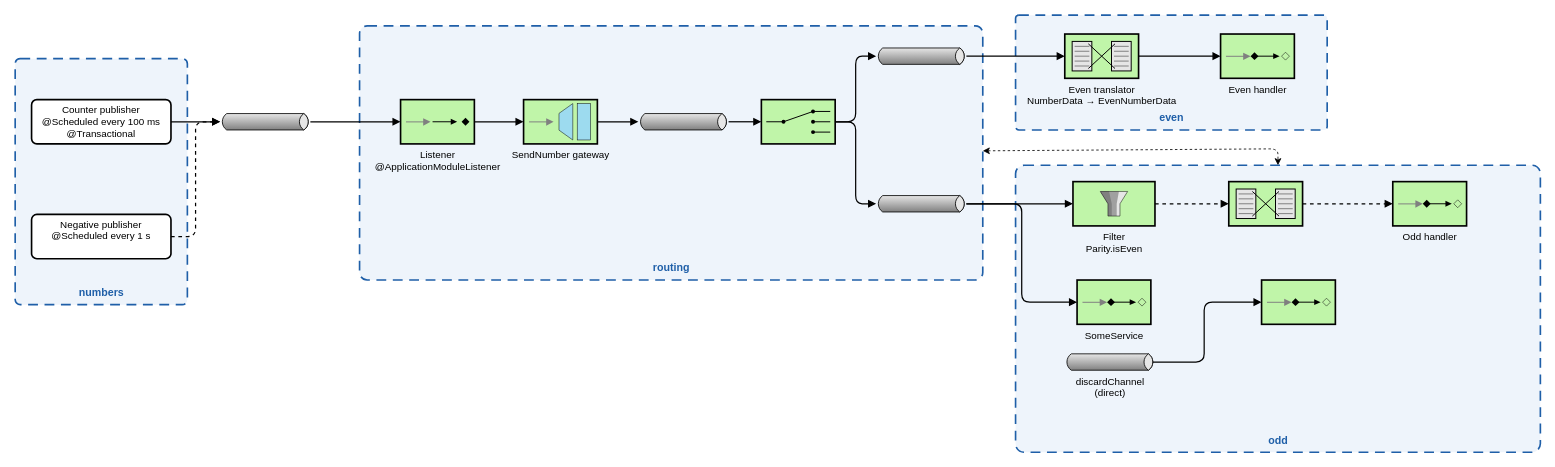
Some shapes in this 1555 by 467 pixel diagram are drawn without their labels. Each missing label, with the box of its shape:
Discard handler: (1260, 279, 1336, 325)
Even or odd: (760, 98, 836, 144)
evenChannel (publish-subscribe): (875, 47, 966, 64)
numberChannel (direct): (638, 113, 729, 130)
NumberData events (application events: publish-subscribe): (219, 113, 310, 130)
Odd translator NumberData → OddNumberData: (1228, 180, 1303, 226)
oddChannel (direct ): (875, 195, 966, 212)
